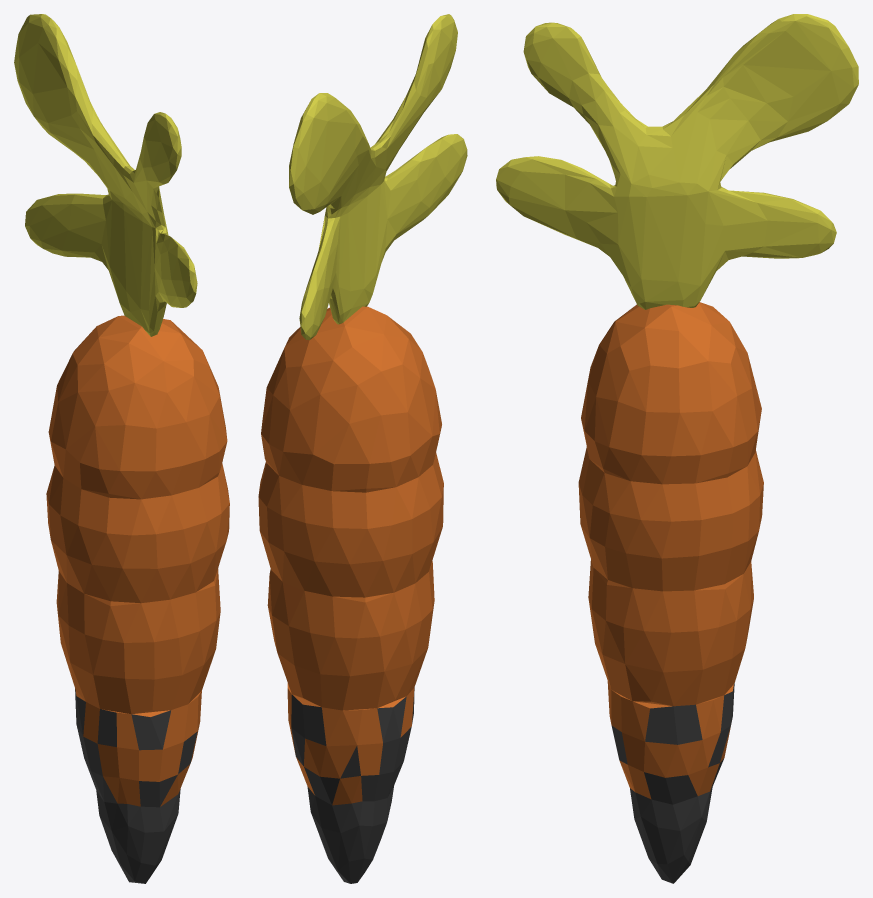
The model's file is WortelTahap4.fbx.
The picture shows the model from 3 angles, left to right: view 1: azimuth 30°, elevation 25°; view 2: azimuth 150°, elevation 25°; view 3: azimuth 270°, elevation 25°; orthographic projection. The views are drawn at different scales.
Parts seen in each view (by area): view 1: wortelTahap4.002; view 2: wortelTahap4.002; view 3: wortelTahap4.002.
Part boxes in pixels (box(x1,y1,x2,y2)): wortelTahap4.002: box(14, 14, 229, 883); wortelTahap4.002: box(258, 14, 467, 883); wortelTahap4.002: box(496, 14, 858, 883).
Size of the model in its own units: 6.89 by 34.99 by 13.5.
